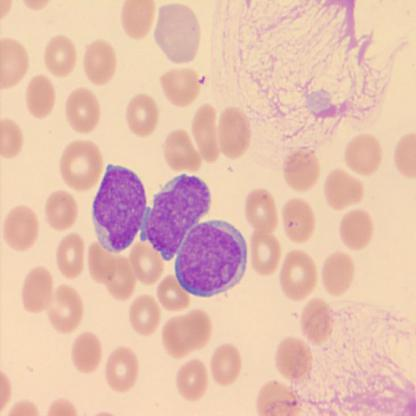Blast: (172, 216, 248, 298), (143, 172, 211, 262), (90, 161, 147, 254)
